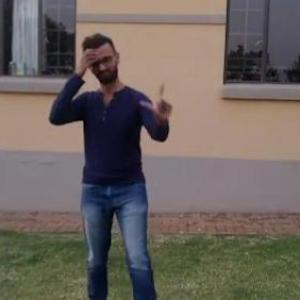land_hand: (136, 77, 181, 121)
